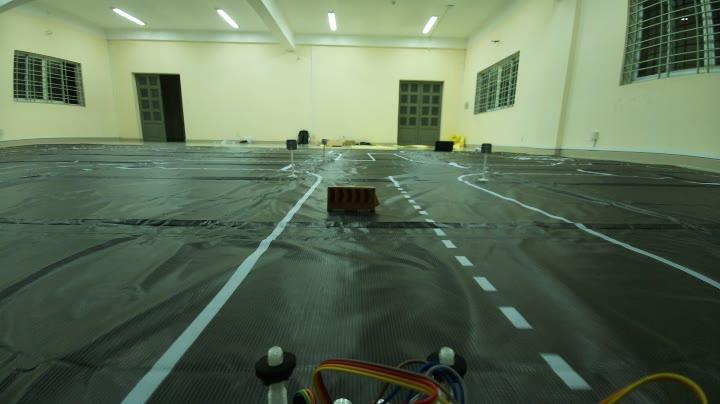roadblock: (322, 182, 388, 221)
